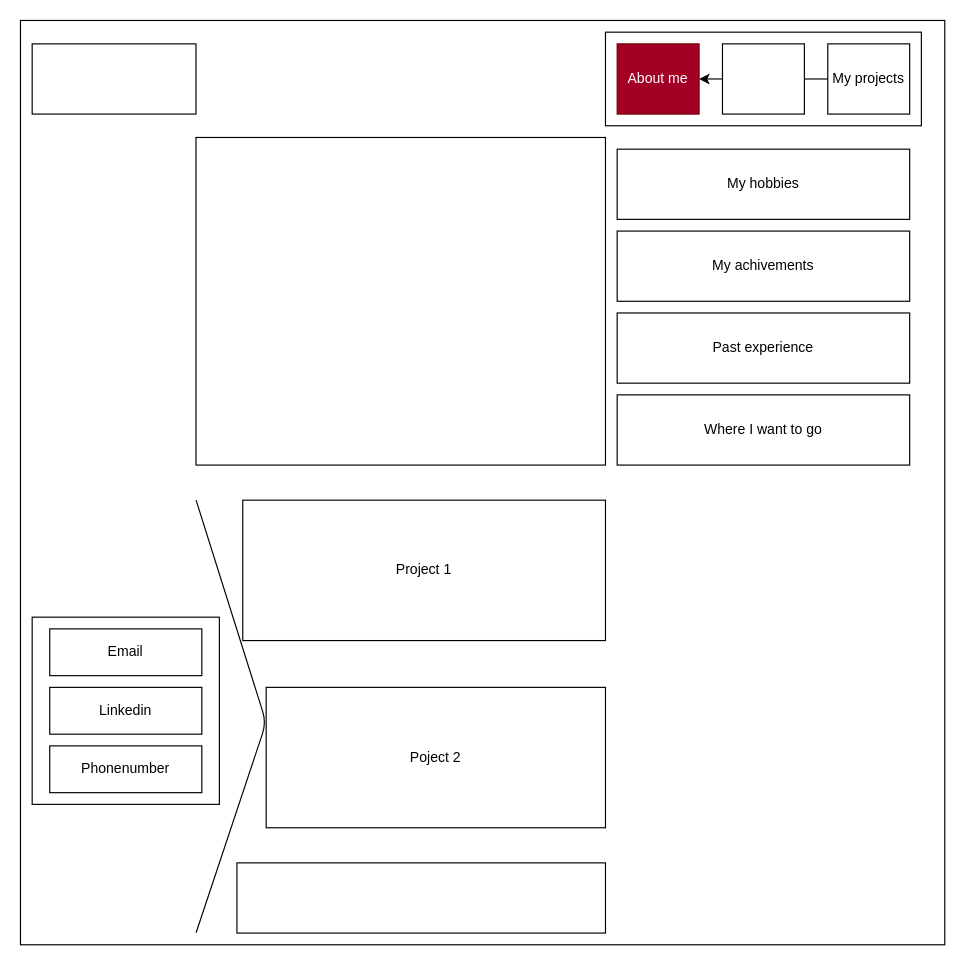
Some shapes in this 965 by 965 pixel diagram are drawn without their labels. The centre of each missing label's shape, as x and y in pixels:
"Bjorn Addington's portfolio" goes at (113,78).
"Contact info" goes at (762,78).
"My face" goes at (400,300).
"project 3" goes at (420,897).
